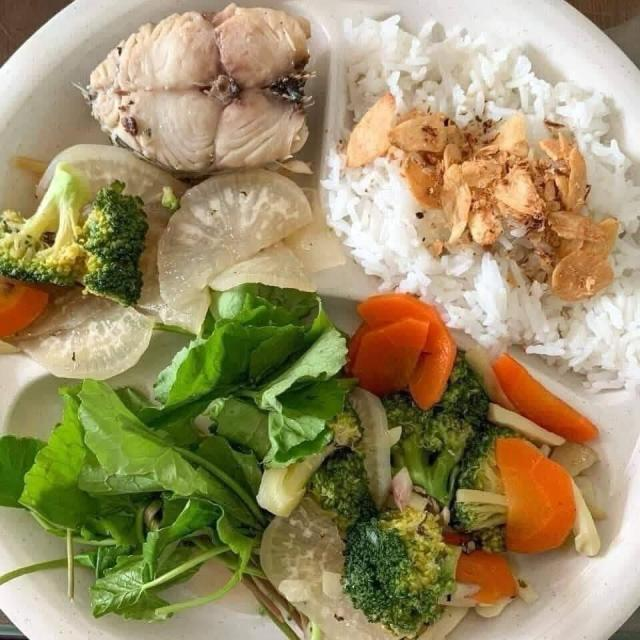Fish: (80, 7, 320, 186)
Plate: (456, 368, 639, 639)
Rice: (325, 16, 639, 400)
Vegetables: (0, 140, 611, 639)
